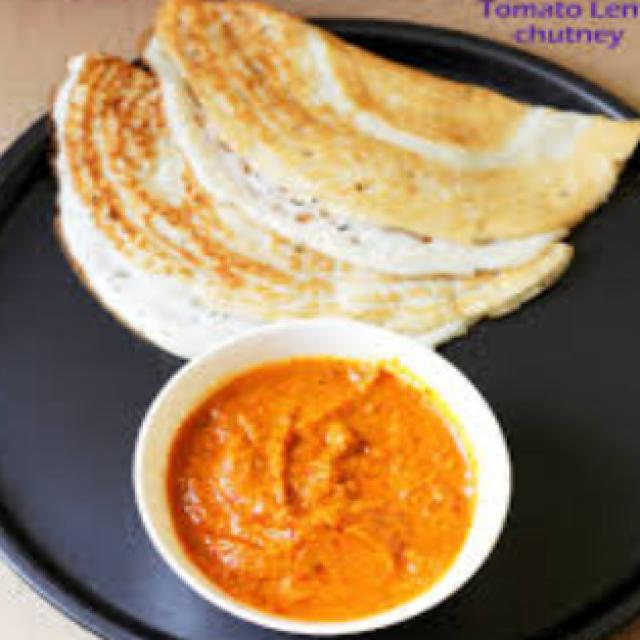tomato chutney: (105, 349, 603, 585)
